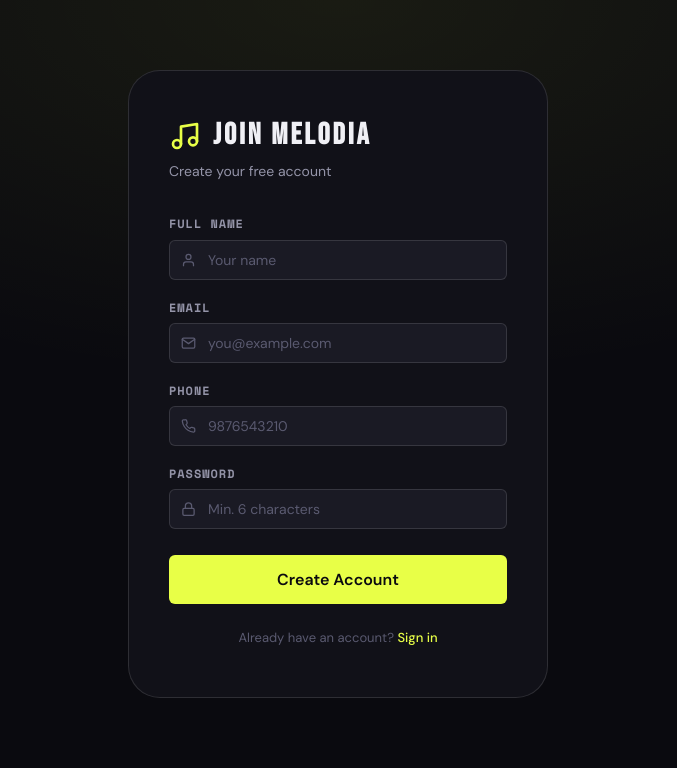
Test: Authentication Flow › Registration › shows validation errors on empty submit
This screenshot has width=677, height=768.
Expected: the submit button is enabled
Click the submit button.
click(338, 580)  # box [169, 555, 507, 604]
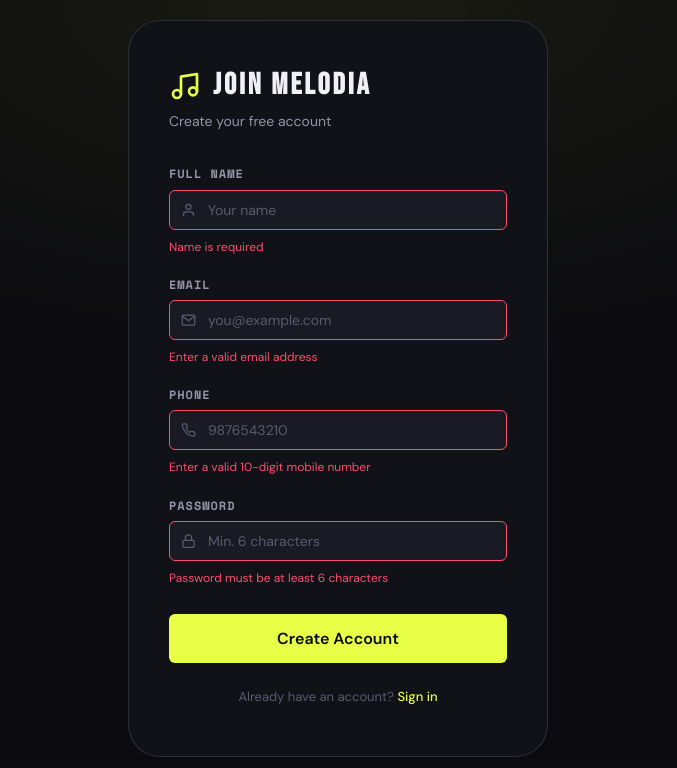
Result: the text "Name is required" is shown at [169, 239, 264, 255]
